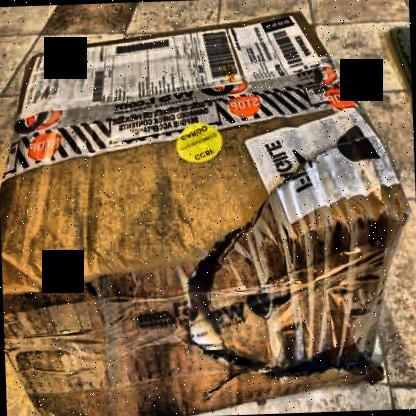defect parcel: (118, 108, 416, 396)
